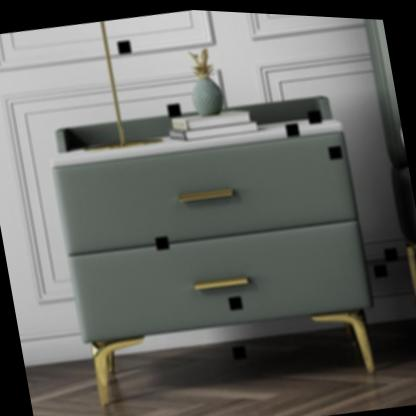Nightstand: (42, 74, 388, 416)
